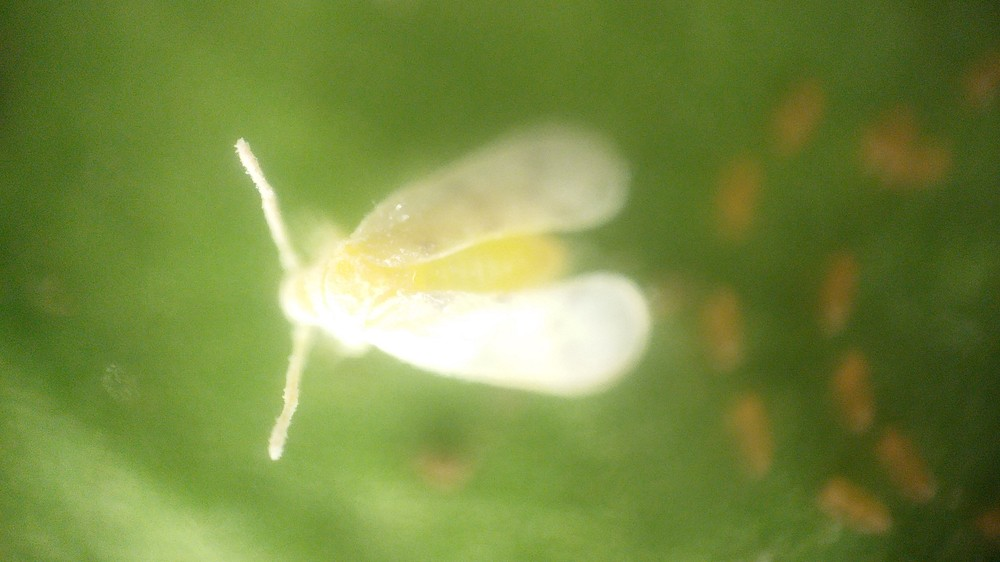Mosca Blanca: (209, 103, 675, 481)
